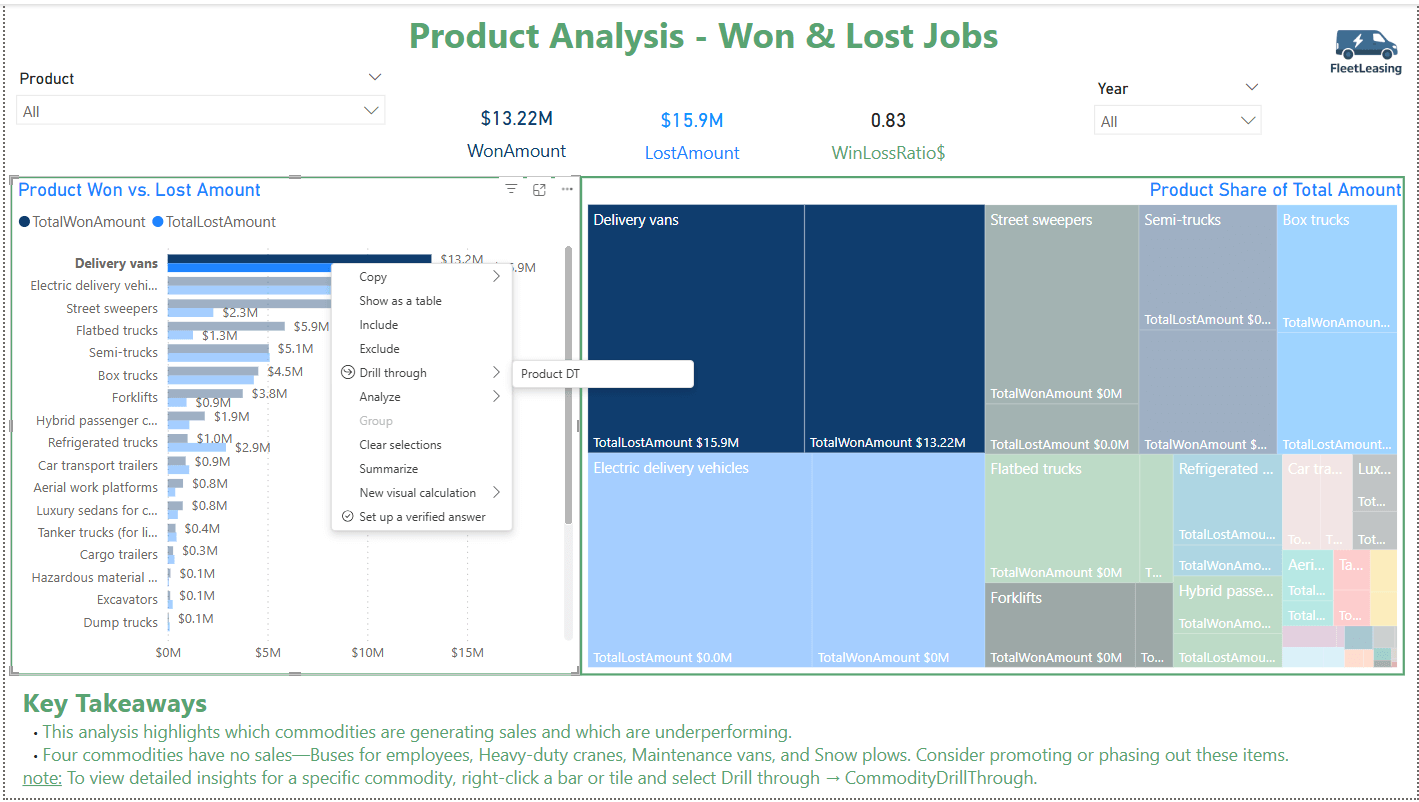

The page's visual inventory and layout, read from the dashboard file:
{"tool":"powerbi","page":{"name":"Products","canvas":[1280,720],"ordinal":1},"visuals":[{"type":"clusteredBarChart","title":"Product Won vs. Lost Amount","fields":{"Category":["WonLostPipeline.Commodity"],"Y":["_Measures.TotalWonAmount","_Measures.TotalLostAmount"]},"box":[4.9,249.6,516.4,358.5],"z":0},{"type":"treemap","title":"Product Portion to Whole","fields":{"Group":["WonLostPipeline.Commodity"],"Values":["_Measure.TotalWonAmount","_Measure.TotalLostAmount"]},"box":[532.6,249.1,737.7,361.9],"z":1000},{"type":"slicer","fields":{"Values":["Date.Date.Variation.Date Hierarchy.Year"]},"box":[975.4,8,172.3,59.3],"z":2000},{"type":"slicer","fields":{"Values":["WonLostPipeline.Commodity"]},"box":[0,8,354.8,77.6],"z":3000},{"type":"card","fields":{"Values":["_Measures.WinLossRatio_WithIcon"]},"box":[731.3,149.3,115.3,63.8],"z":4000},{"type":"card","fields":{"Values":["_Measure.TotalLostAmount"]},"box":[553.4,148.1,114.1,65],"z":5000},{"type":"card","fields":{"Values":["_Measure.TotalWonAmount"]},"box":[394.2,149,115.2,68],"z":6000},{"type":"textbox","box":[375.8,1.1,545.5,53.7],"z":7000},{"type":"textbox","box":[11,610.8,1258.5,109.2],"z":8000},{"type":"image","box":[1188.6,1,91.4,93.4],"z":9000},{"type":"shape","box":[12.5,134.6,1258.3,12.5],"z":10000},{"type":"pageNavigator","box":[47.9,79.9,1202.4,49.1],"z":11000},{"type":"bookmarkNavigator","box":[4.9,226.4,309.6,23.3],"z":14000},{"type":"bookmarkNavigator","box":[532.3,226.4,309.6,23.3],"z":15000},{"type":"shape","box":[521.9,249.1,10.7,366.2],"z":16000},{"type":"shape","box":[7.6,608.9,1265.9,12.7],"z":17000}]}

Visuals, with their boxes in screenshot pixels (x1, y1, x2, y2), scaled from the page's 1280x720 canvas onto the 1419x802 screenshot:
"Product Won vs. Lost Amount" clusteredBarChart: box=[5, 278, 578, 677]
"Product Portion to Whole" treemap: box=[590, 277, 1408, 681]
slicer - Date.Date.Variation.Date Hierarchy.Year: box=[1081, 9, 1272, 75]
slicer - WonLostPipeline.Commodity: box=[0, 9, 393, 95]
card - _Measures.WinLossRatio_WithIcon: box=[811, 166, 939, 237]
card - _Measure.TotalLostAmount: box=[613, 165, 740, 237]
card - _Measure.TotalWonAmount: box=[437, 166, 565, 242]
textbox: box=[417, 1, 1021, 61]
textbox: box=[12, 680, 1407, 801]
image: box=[1318, 1, 1418, 105]
shape: box=[14, 150, 1409, 164]
pageNavigator: box=[53, 89, 1386, 144]
bookmarkNavigator: box=[5, 252, 349, 278]
bookmarkNavigator: box=[590, 252, 933, 278]
shape: box=[579, 277, 590, 685]
shape: box=[8, 678, 1412, 692]
